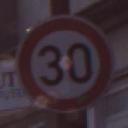speed_limit_30: (14, 14, 115, 114)
